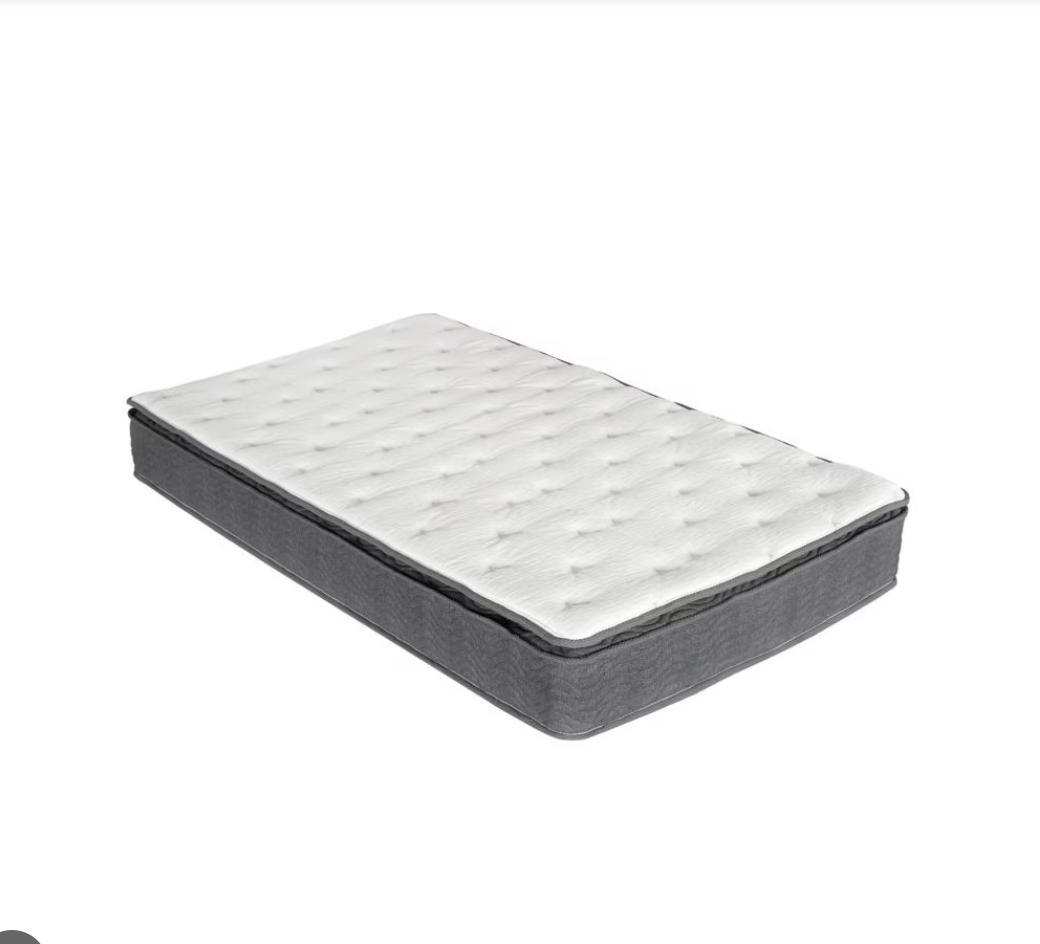Bed-Mattress: (123, 304, 918, 754)
